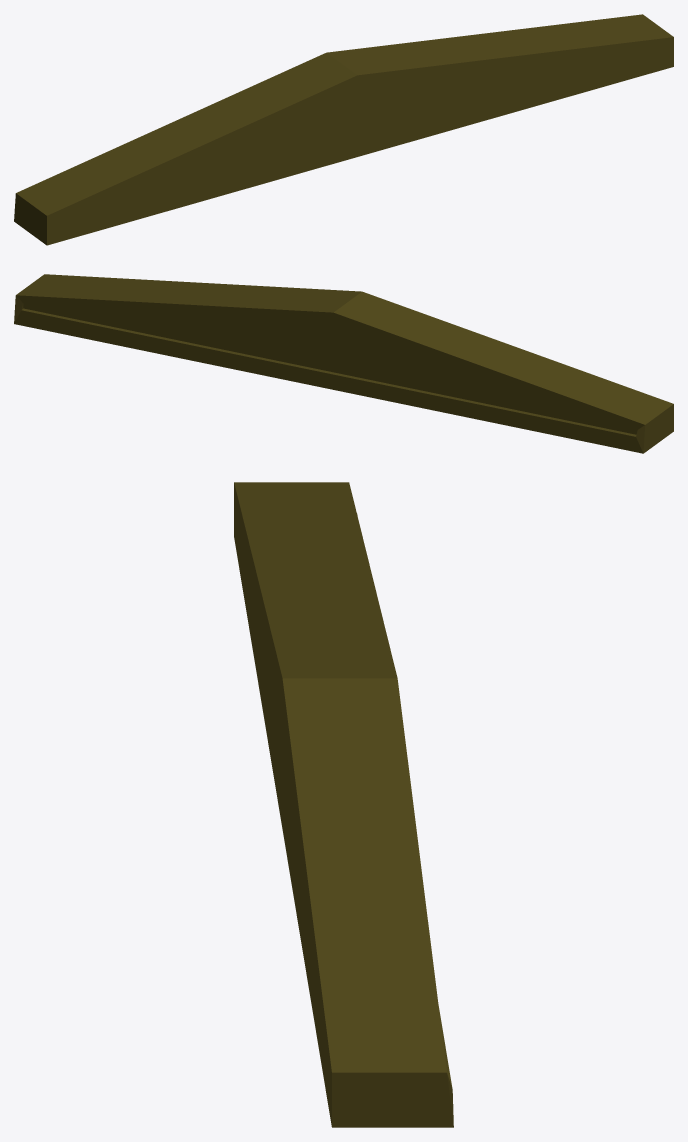
The model's file is archway_top.fbx.
3 renders of one model, top to bottom at view 1: azimuth 30°, elevation 25°; view 2: azimuth 150°, elevation 25°; view 3: azimuth 270°, elevation 25°, orthographic. The views are drawn at different scales.
Parts seen in each view (by area): view 1: archway_top_LOD0; view 2: archway_top_LOD0; view 3: archway_top_LOD0.
Boxes of the visible parts, left/top/right/bottom form: archway_top_LOD0: left=14, top=14, right=673, bottom=245; archway_top_LOD0: left=14, top=274, right=673, bottom=453; archway_top_LOD0: left=234, top=482, right=453, bottom=1127.
Size of what is drawn, in the model's own units: 6412 by 766 by 1009.
